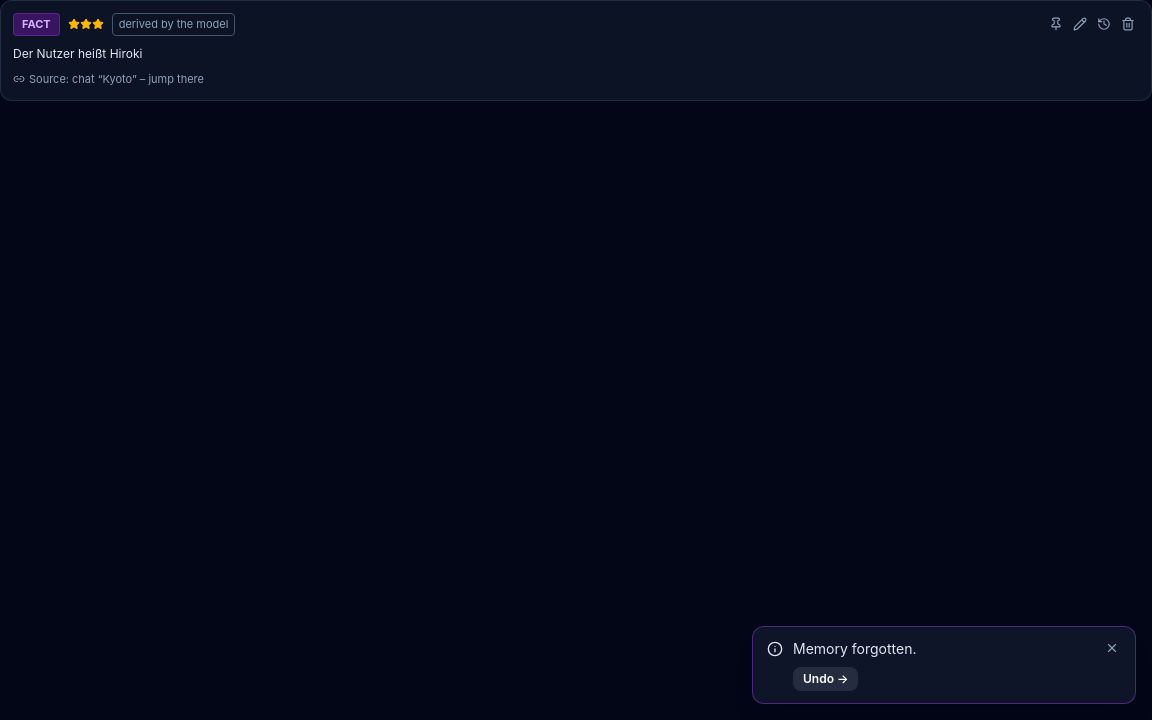
memory item › shows the history of changes
This screenshot has width=1152, height=720.
What coordinates should you click on to do the following:
click the button named "History"
I would click on:
 (1104, 24)
Its box is [1093,13,1115,35].
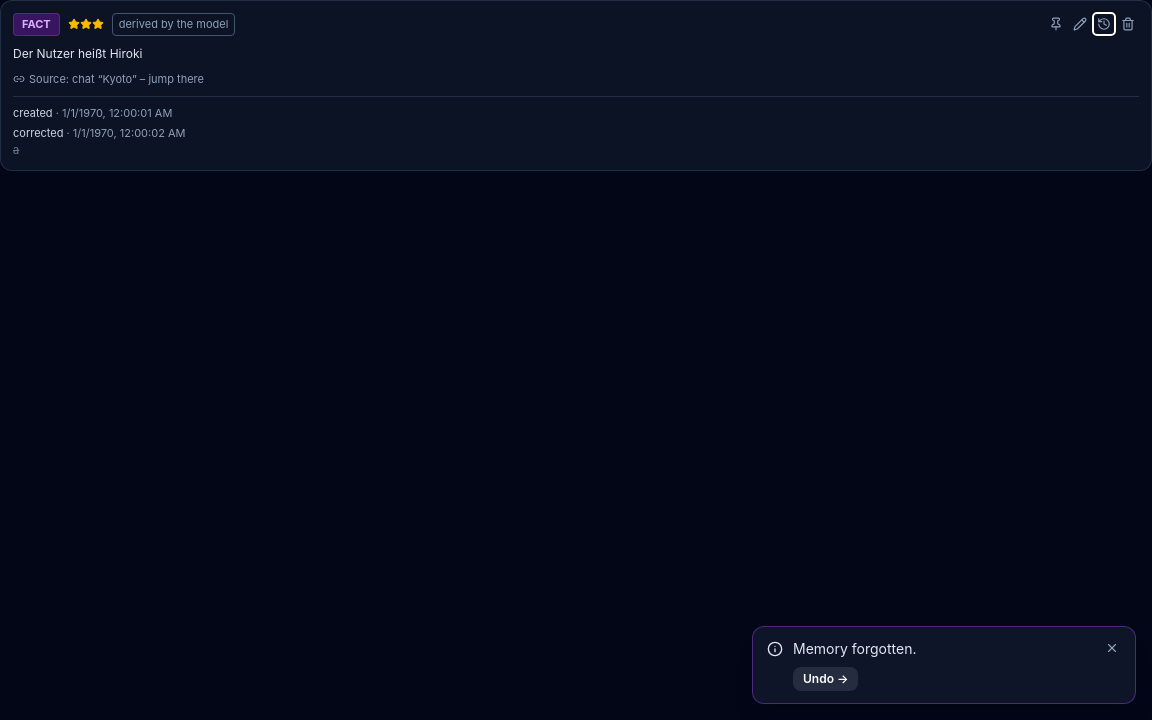
Result: the list named "History" shows "created" at [13,106,53,120]
Result: the list named "History" shows "corrected" at [13,126,64,140]
